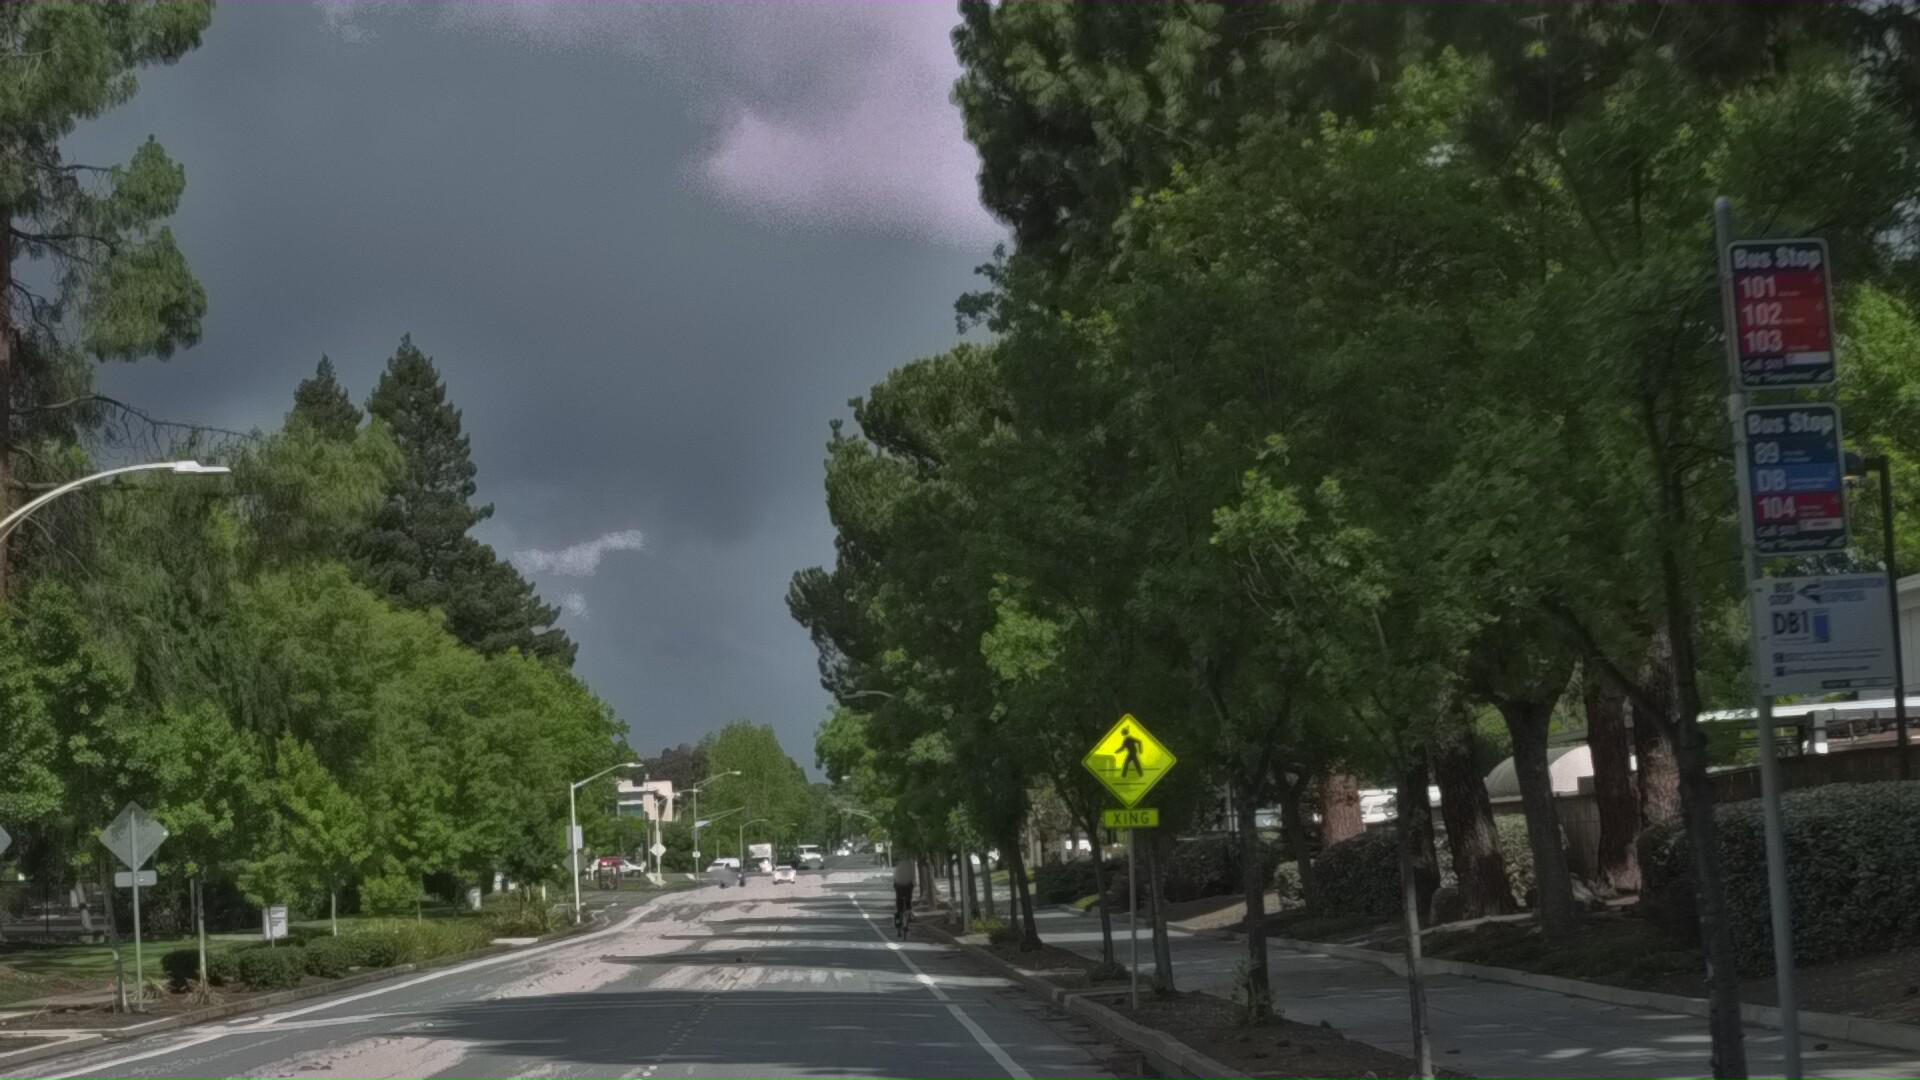bicycle: (884, 963, 927, 1046)
